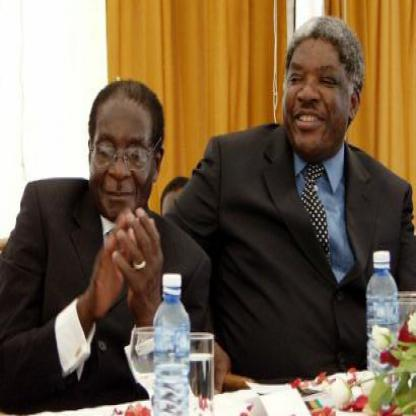face: (282, 20, 355, 159), (92, 84, 157, 228)
